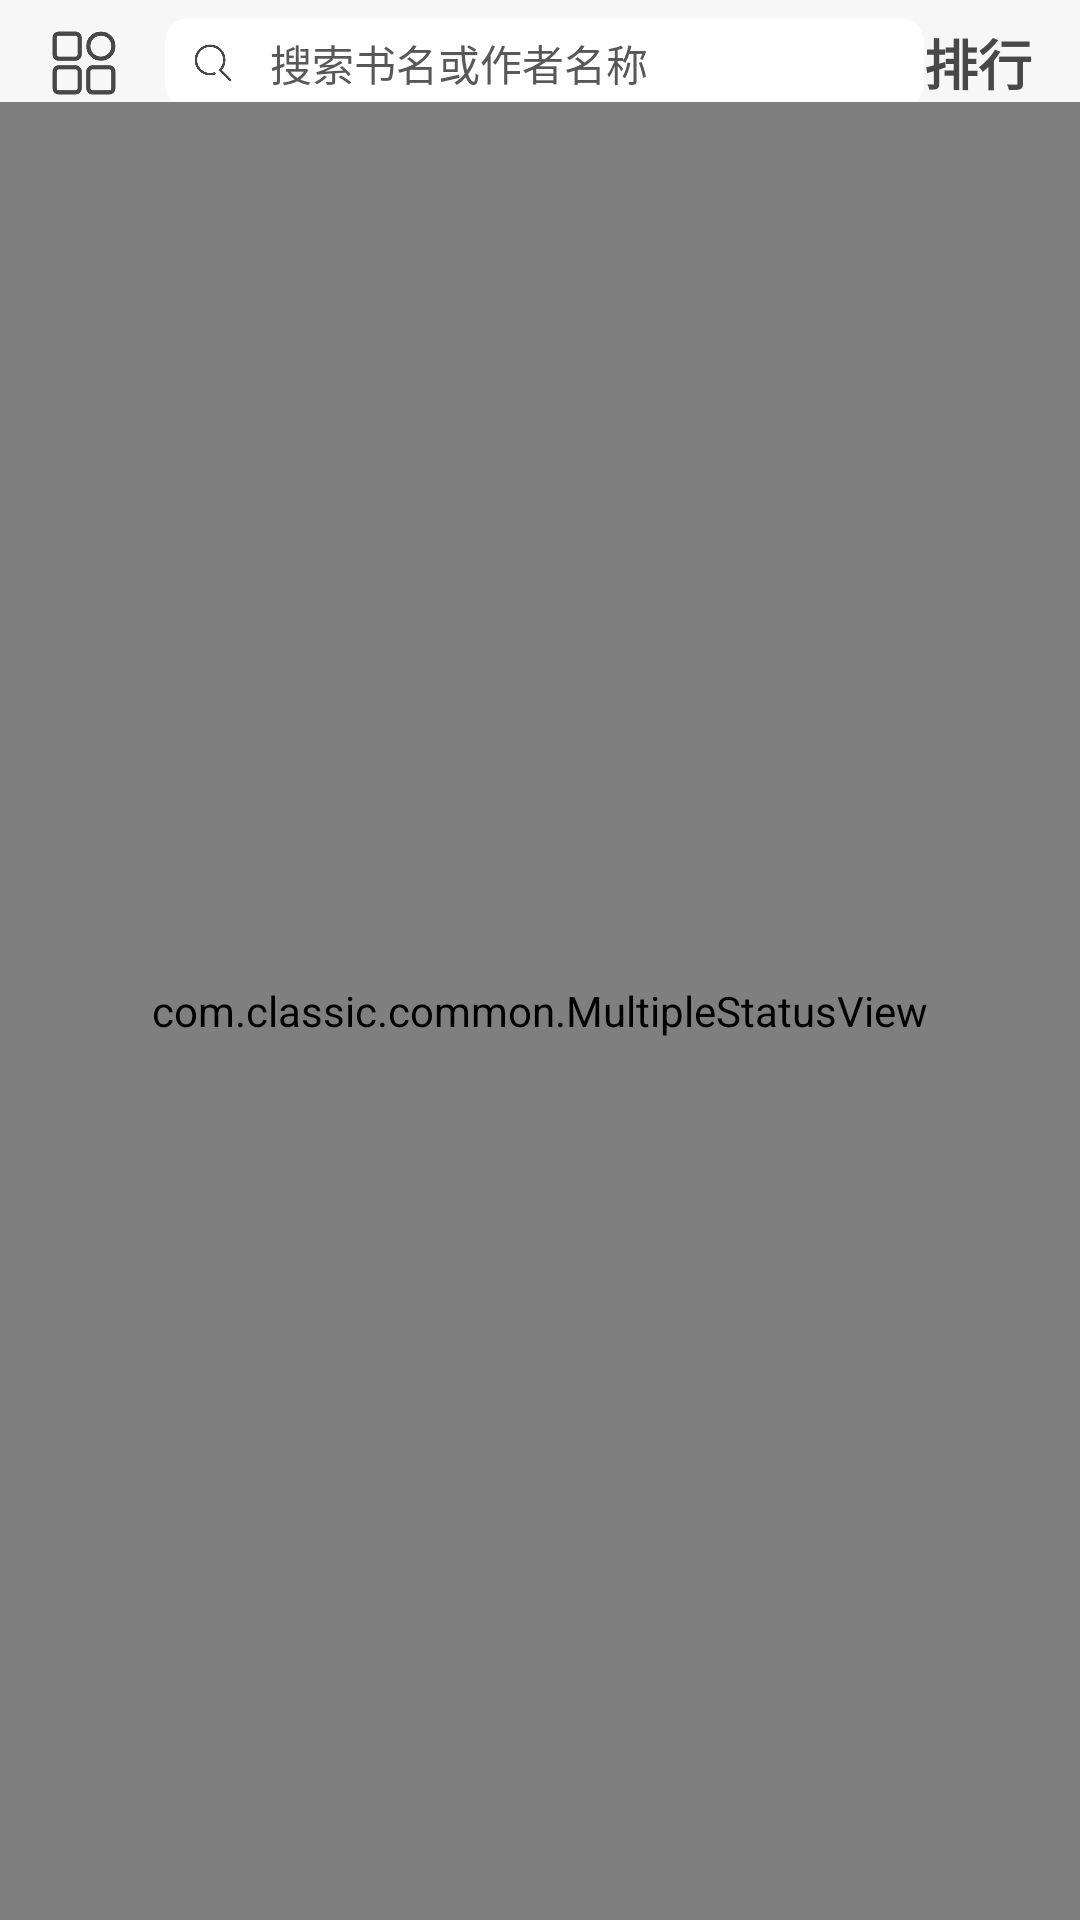

Screen size 1080 x 1920. Icon name, then its center in pixels as (x,y):
more draw: (84,63)
search: (213,62)
